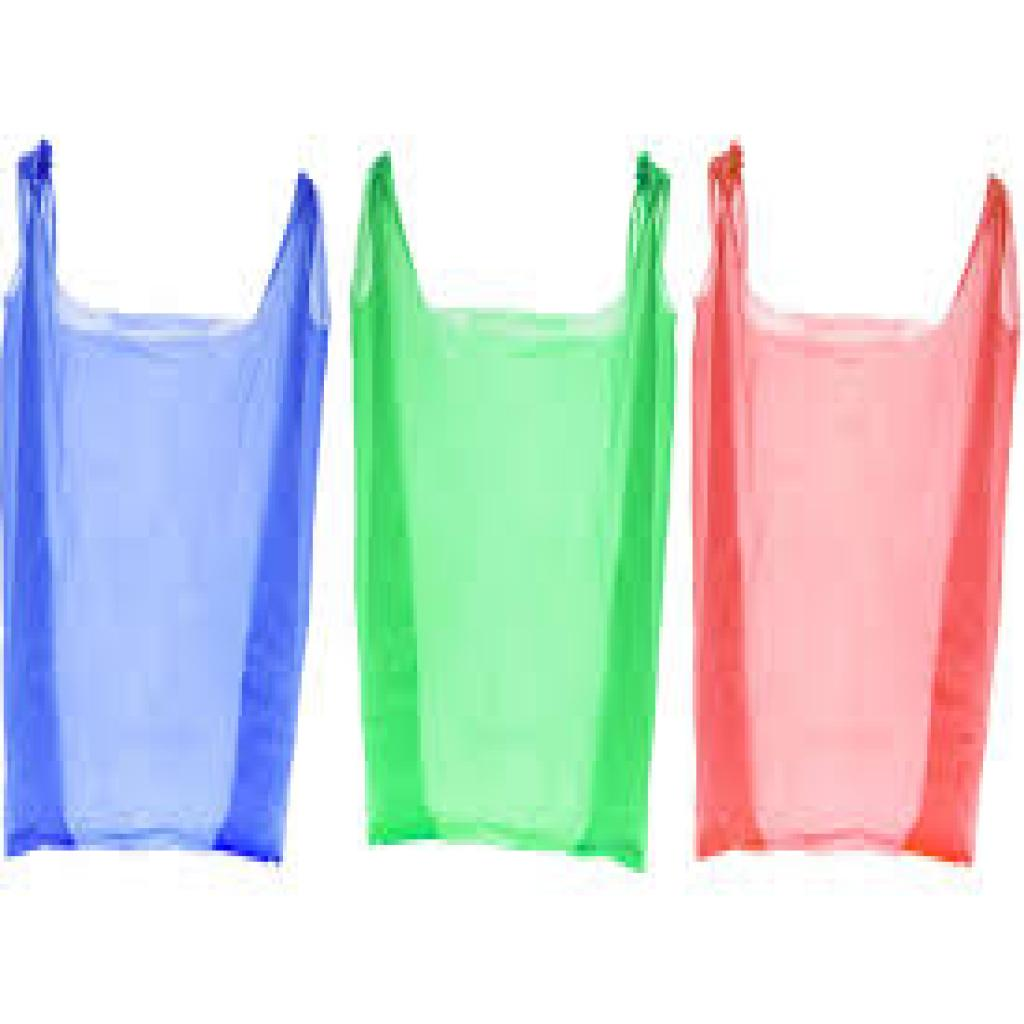plastic: (2, 125, 337, 872), (347, 135, 682, 882), (695, 138, 1024, 885)
